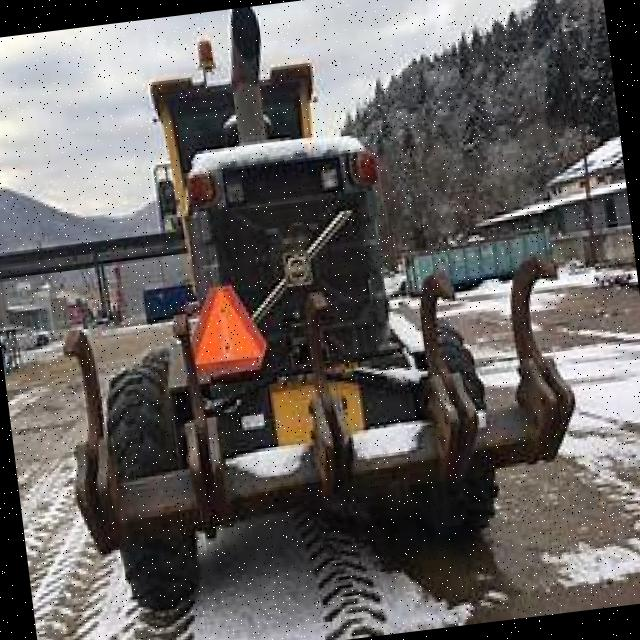Grader: (23, 2, 558, 622)
